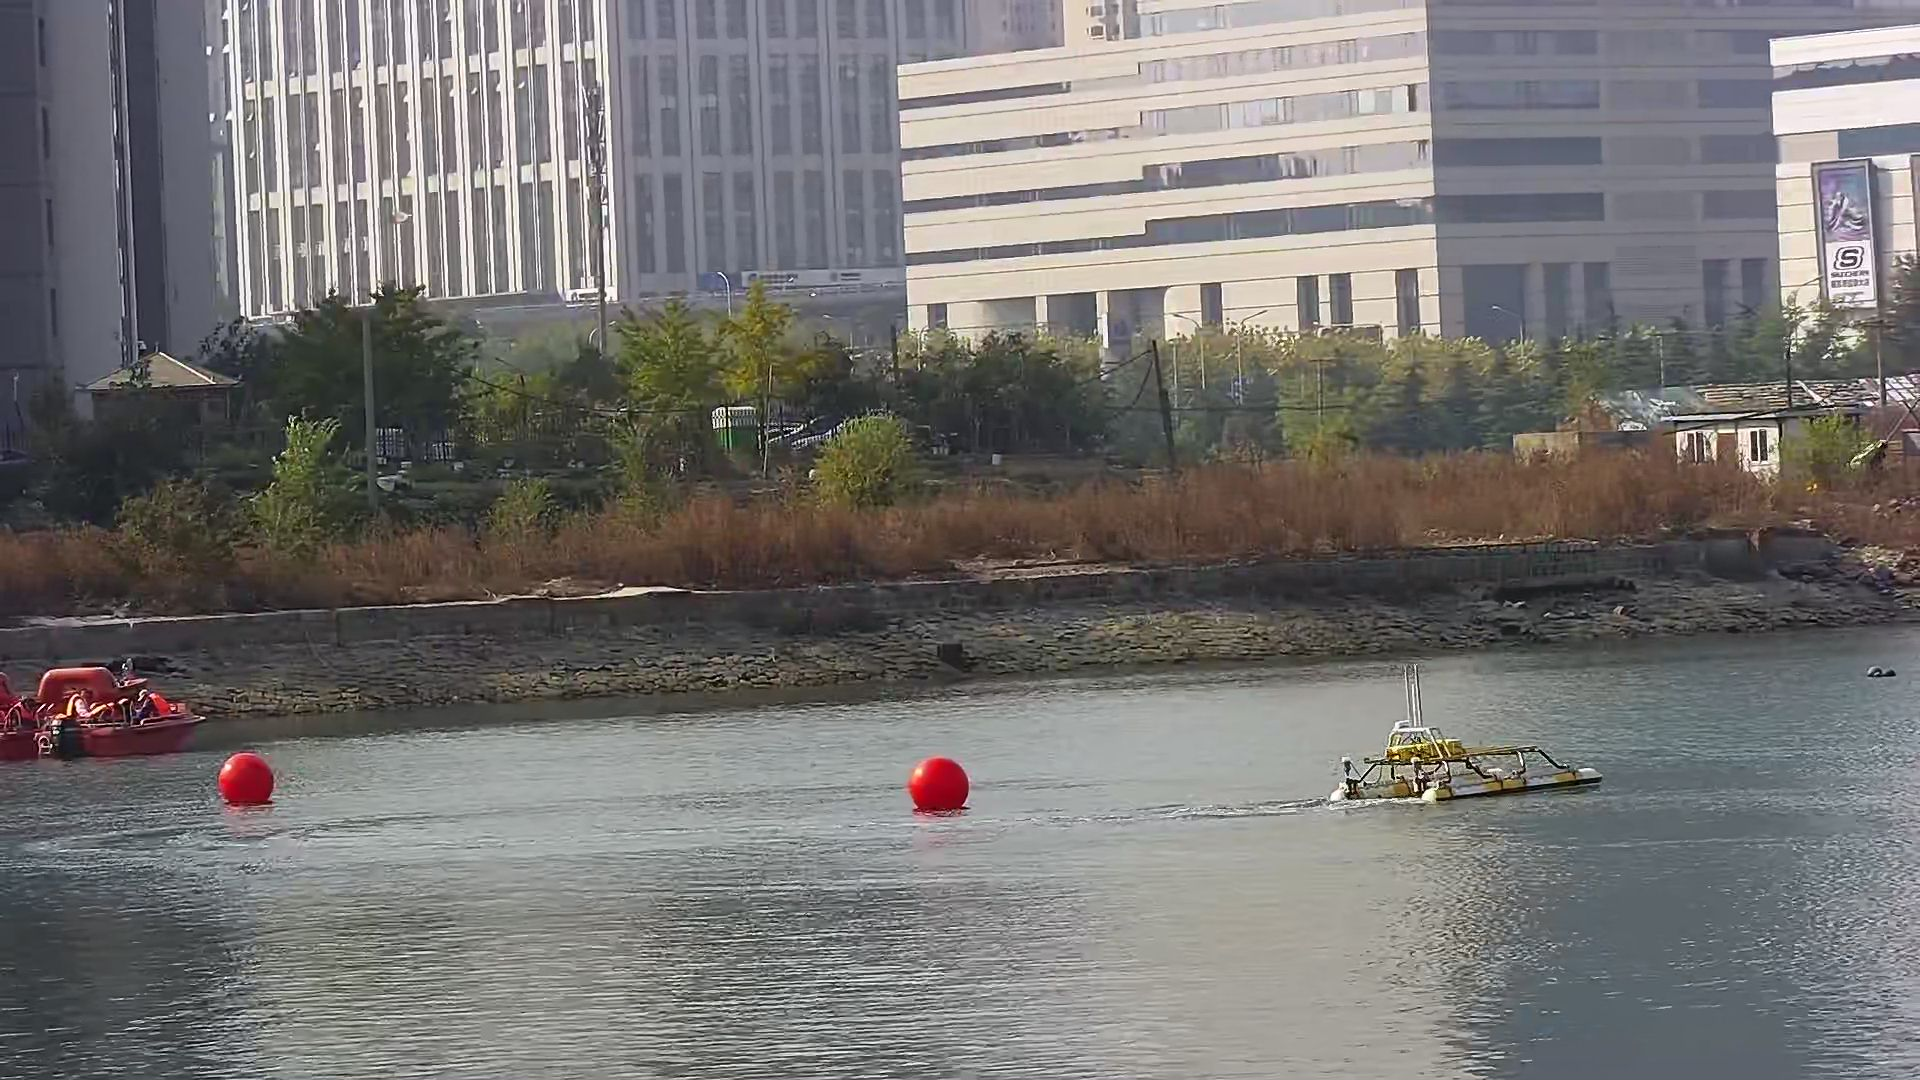ball: (214, 749, 285, 808), (910, 753, 972, 814)
boat: (1329, 723, 1607, 808), (1, 667, 204, 756)
rubbish: (1865, 661, 1905, 682)
